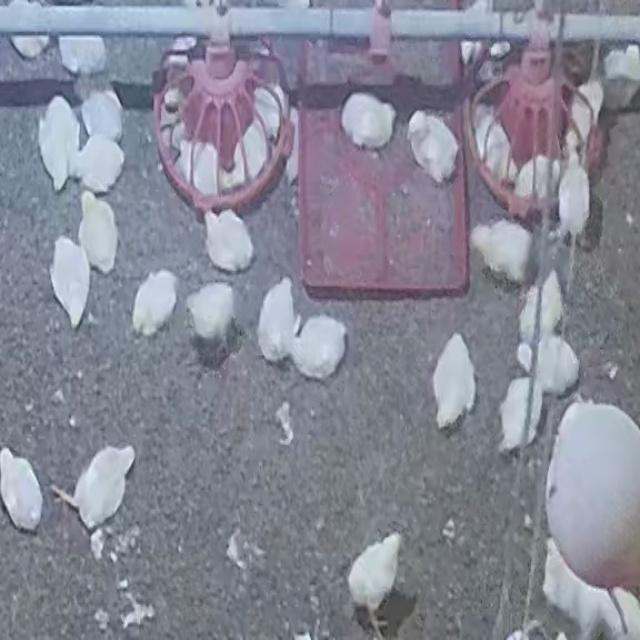chicken: (348, 523, 411, 640), (70, 445, 136, 532), (432, 333, 477, 432), (48, 236, 90, 330), (472, 99, 520, 179), (472, 219, 532, 282), (0, 448, 44, 532), (40, 96, 79, 190), (292, 313, 349, 377), (201, 207, 255, 274), (519, 336, 579, 396), (339, 90, 400, 149), (498, 376, 544, 453), (557, 148, 593, 246), (410, 108, 459, 178), (130, 268, 179, 337), (78, 192, 120, 272), (257, 280, 296, 362), (564, 76, 606, 148), (186, 281, 239, 338), (75, 134, 125, 193), (223, 118, 267, 181), (174, 137, 222, 194), (80, 88, 124, 141), (510, 146, 552, 200), (57, 34, 107, 75)
